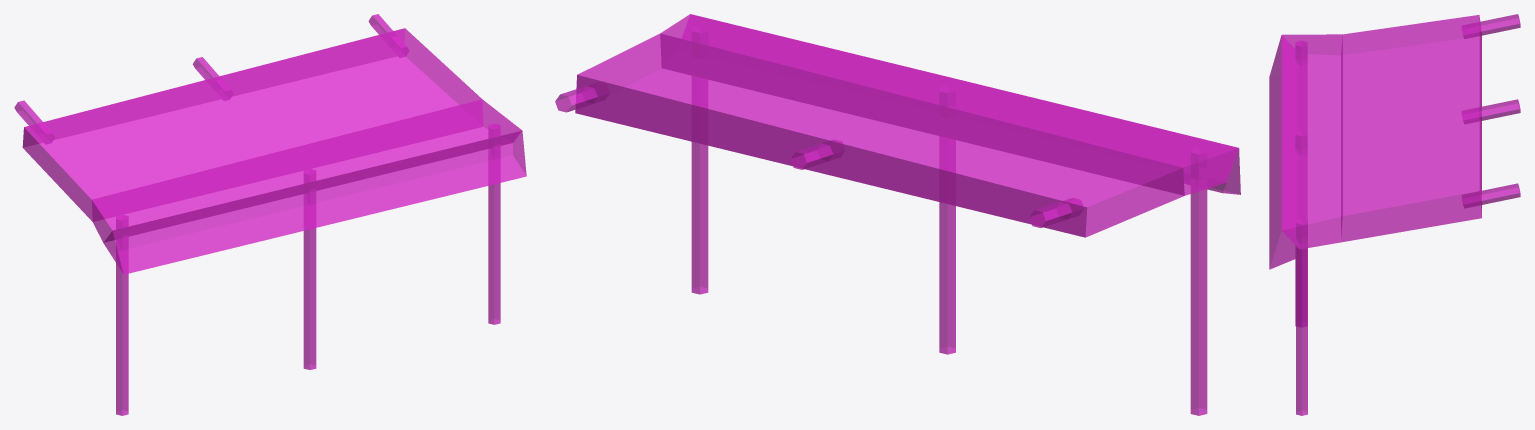
The model's file is SM_Prop_Awning_02_Collision.fbx.
The picture shows the model from 3 angles, left to right: view 1: azimuth 30°, elevation 25°; view 2: azimuth 150°, elevation 25°; view 3: azimuth 270°, elevation 25°; orthographic projection. The views are drawn at different scales.
Visible parts, largest first — view 1: SM_Prop_Awning_02_Collision; view 2: SM_Prop_Awning_02_Collision; view 3: SM_Prop_Awning_02_Collision.
Boxes of the visible parts, bbox=[...] form: SM_Prop_Awning_02_Collision: bbox=[14, 14, 526, 415]; SM_Prop_Awning_02_Collision: bbox=[555, 14, 1240, 415]; SM_Prop_Awning_02_Collision: bbox=[1269, 14, 1520, 415].
Bounding box in the file's own units: 524 × 279 × 284.
